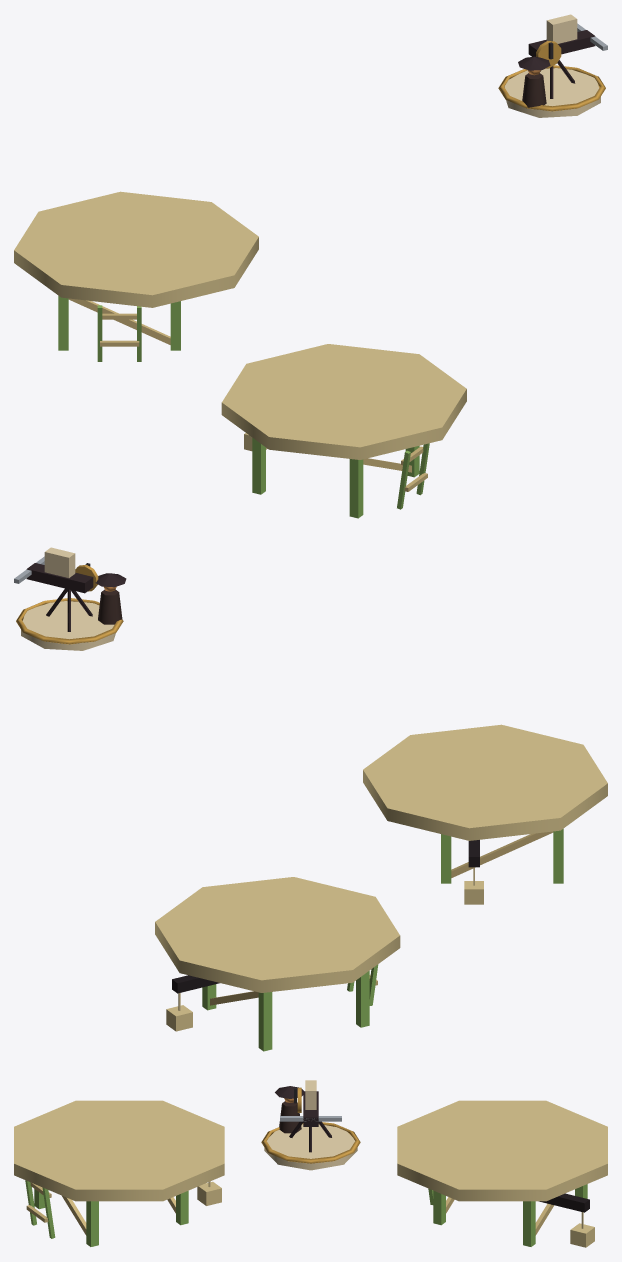
The model's file is base_builder_weapon_1.glb.
The picture shows the model from 3 angles, top to bottom: view 1: azimuth 30°, elevation 25°; view 2: azimuth 150°, elevation 25°; view 3: azimuth 270°, elevation 25°; orthographic projection. The views are drawn at different scales.
Parts seen in each view (by area): view 1: tower_slot_2_plate, tower_slot_1_plate, weapon_mount, weapon_mount_ring, tower_slot_2_leg_1, repeater_magazine, tower_slot_2_leg_0, engineer_body, tower_slot_1_brace_r; view 2: tower_slot_1_plate, tower_slot_2_plate, weapon_mount, repeater_stock, weapon_mount_ring, tower_slot_1_leg_0, repeater_magazine, tower_slot_2_brace_l, tower_slot_1_leg_1, engineer_body; view 3: tower_slot_1_plate, tower_slot_2_plate, weapon_mount, weapon_mount_ring, tower_slot_1_leg_2, tower_slot_2_leg_3, tower_slot_1_hoist_arm, tower_slot_1_hoist_load, tower_slot_2_hoist_load, engineer_body, tower_slot_1_leg_3, tower_slot_2_leg_2 (+5 smaller).
Part boxes in pixels (x1,y1,x2,y2): tower_slot_2_plate: (221,344,466,459); tower_slot_1_plate: (14,191,258,307); weapon_mount: (504,68,600,117); weapon_mount_ring: (498,65,605,111); tower_slot_2_leg_1: (349,459,363,518); repeater_magazine: (546,14,577,43); tower_slot_2_leg_0: (252,438,265,494); engineer_body: (522,73,546,107); tower_slot_1_brace_r: (68,298,170,344); tower_slot_1_plate: (155,877,400,992); tower_slot_2_plate: (363,724,607,840); weapon_mount: (21,601,115,650); repeater_stock: (26,563,93,593); weapon_mount_ring: (16,598,123,644); tower_slot_1_leg_0: (258,992,272,1051); repeater_magazine: (44,547,75,577); tower_slot_2_brace_l: (451,831,553,877); tower_slot_1_leg_1: (356,971,369,1027); engineer_body: (98,589,122,624); tower_slot_1_plate: (397,1100,607,1201); tower_slot_2_plate: (14,1100,224,1201); weapon_mount: (264,1124,357,1170); weapon_mount_ring: (261,1122,360,1163); tower_slot_1_leg_2: (523,1201,535,1246); tower_slot_2_leg_3: (86,1201,98,1246); tower_slot_1_hoist_arm: (539,1193,589,1212); tower_slot_1_hoist_load: (570,1223,594,1247); tower_slot_2_hoist_load: (197,1181,221,1205); engineer_body: (279,1101,301,1133); tower_slot_1_leg_3: (433,1190,445,1225); tower_slot_2_leg_2: (176,1190,188,1225).
Size of the model in its own units: 0.9403 by 0.595 by 1.15.
